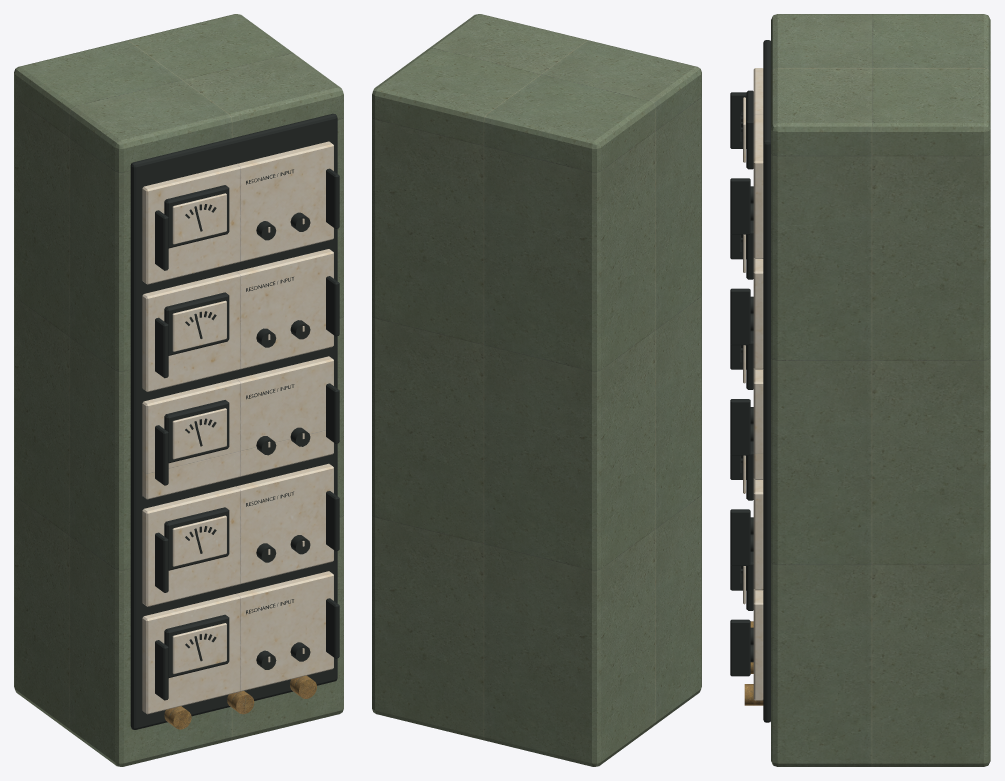
The model's file is instrument_rack.glb.
The picture shows the model from 3 angles, left to right: view 1: azimuth 30°, elevation 25°; view 2: azimuth 150°, elevation 25°; view 3: azimuth 270°, elevation 25°; orthographic projection. The views are drawn at different scales.
Parts seen in each view (by area): view 1: Rack enclosure, Ivory instrument faces, Bakelite and ventilation apertures, Oxidized brass connector; view 2: Rack enclosure; view 3: Rack enclosure, Bakelite and ventilation apertures, Ivory instrument faces.
Boxes of the visible parts, x1=… form: Rack enclosure: x1=14, y1=14, x2=343, y2=766; Ivory instrument faces: x1=142, y1=141, x2=333, y2=714; Bakelite and ventilation apertures: x1=130, y1=113, x2=339, y2=729; Oxidized brass connector: x1=164, y1=675, x2=316, y2=729; Rack enclosure: x1=372, y1=14, x2=701, y2=766; Rack enclosure: x1=771, y1=14, x2=990, y2=766; Bakelite and ventilation apertures: x1=730, y1=40, x2=770, y2=722; Ivory instrument faces: x1=743, y1=68, x2=763, y2=700.
Size of the model in its own units: 0.8 by 2.1 by 0.77.
4 materials, 3 textured.
